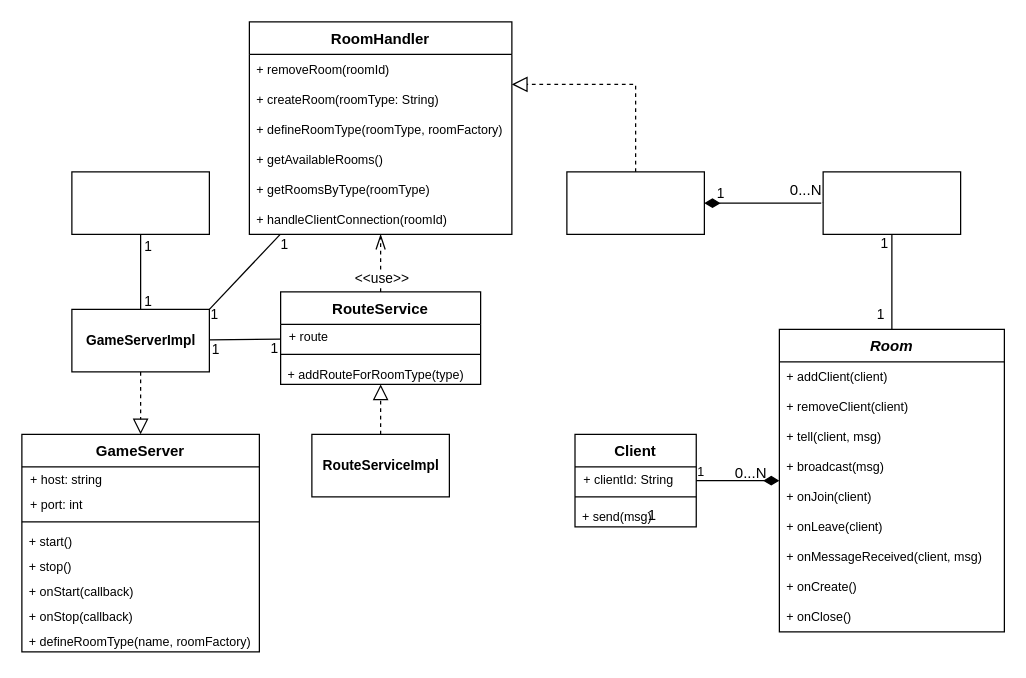
Image size: 1026x678. Some labels were removed from this diagram. Each missing label, with the centre of its shape:
"RoomActor" belongs at (891,202).
"RoomHandlerImpl" belongs at (635,202).
"ServerActor" belongs at (140,202).
